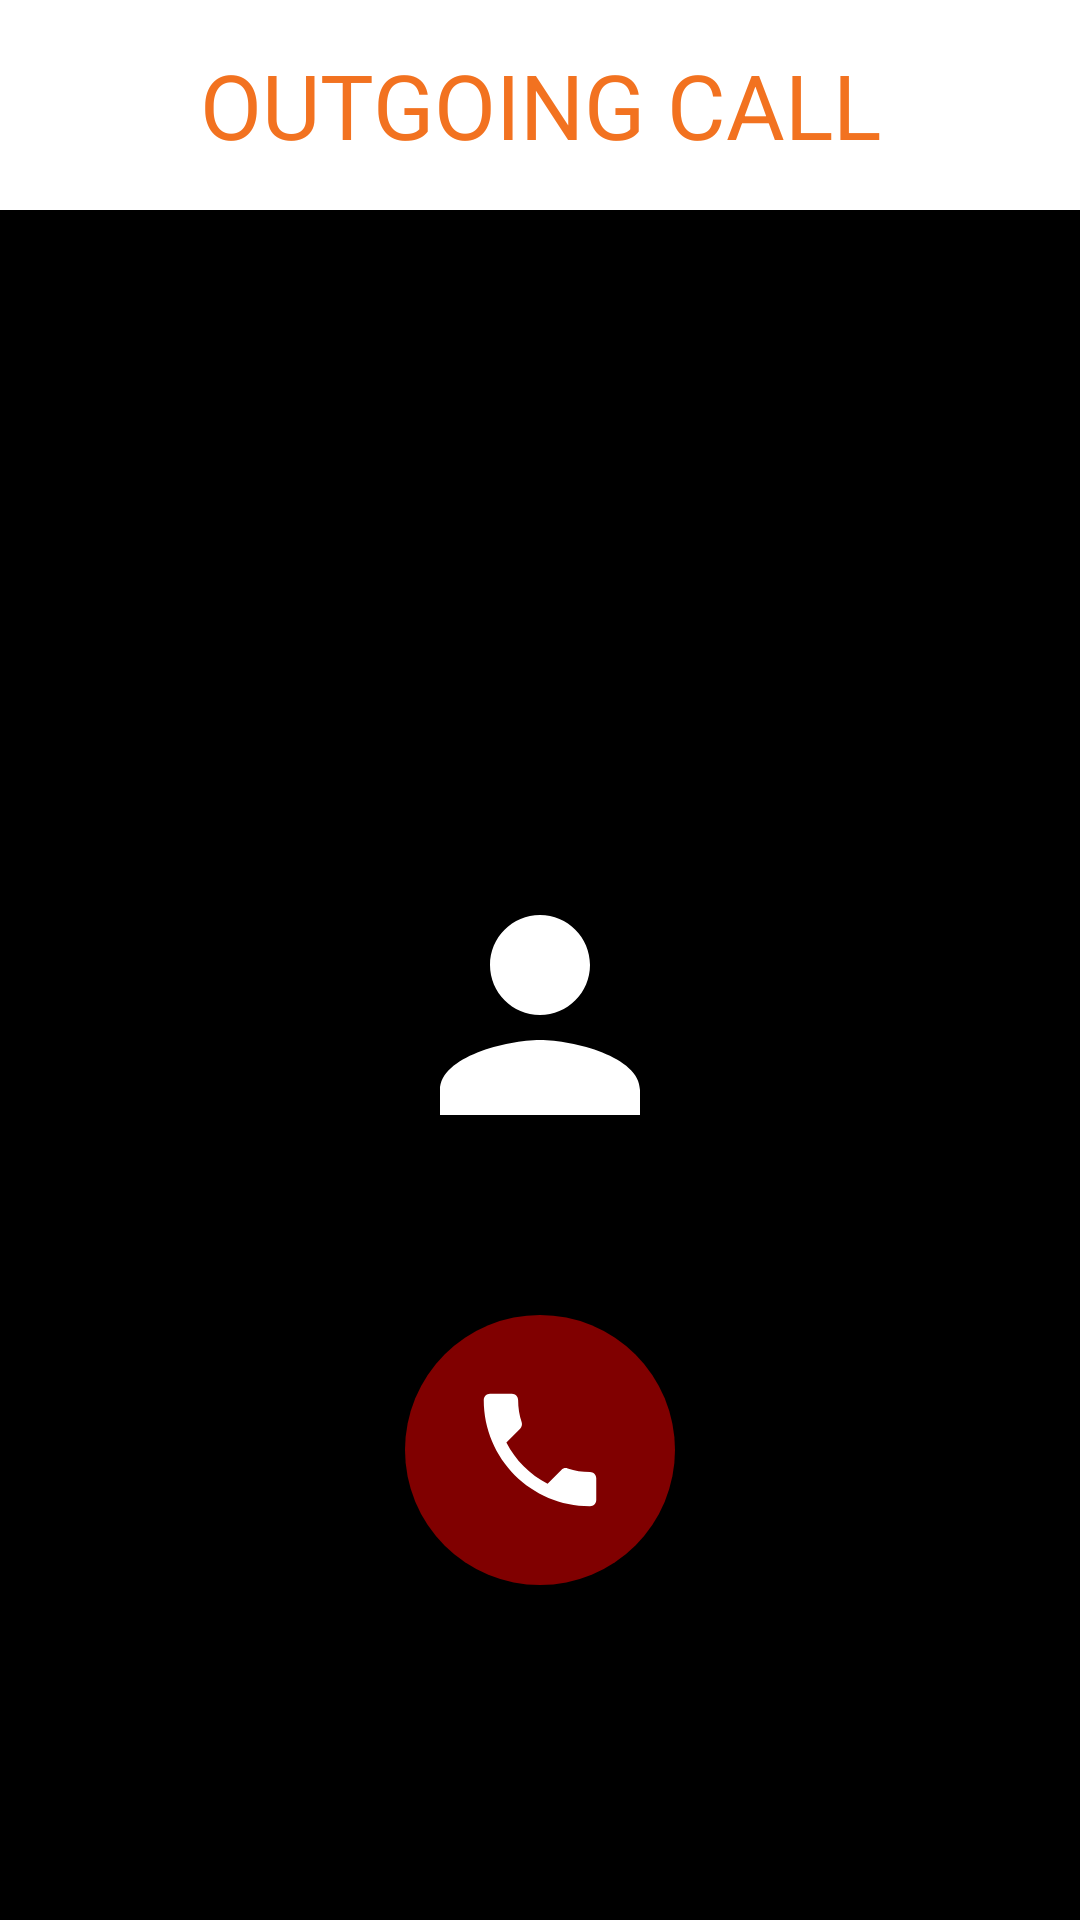

Icons on this 1080x1920 Android screen, each with the point to tap as point (x, y):
local phone: point (540, 1450)
person: point (540, 1015)
